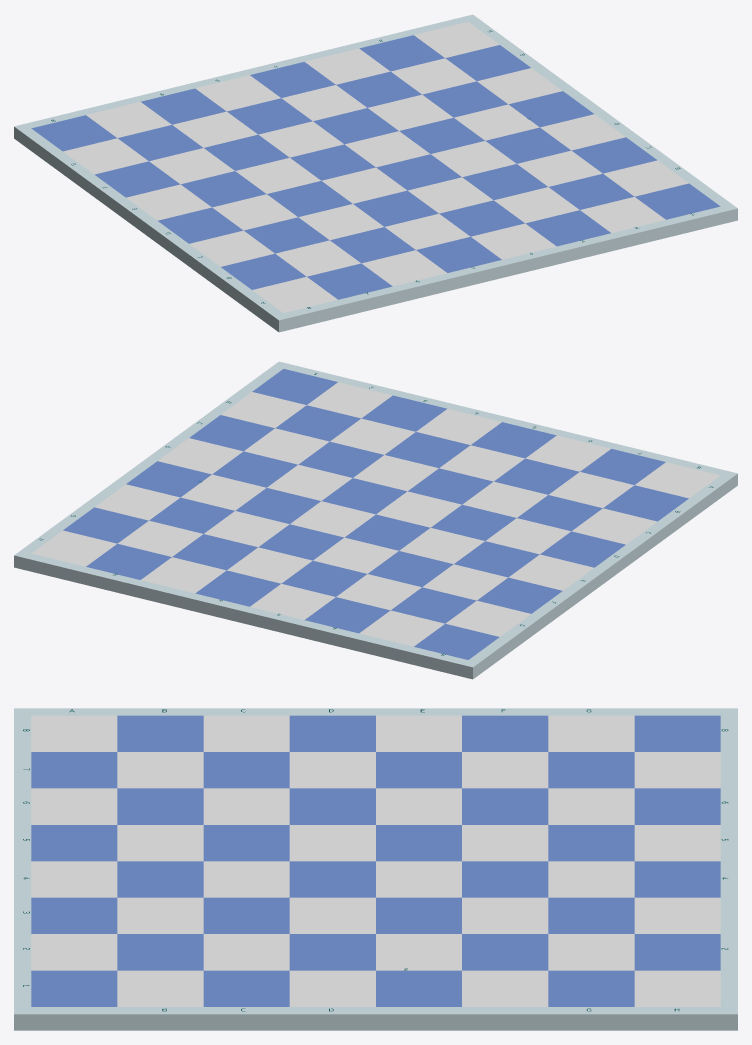
Rendered from chess_board.fbx.
3 renders of one model, top to bottom at view 1: azimuth 30°, elevation 25°; view 2: azimuth 150°, elevation 25°; view 3: azimuth 270°, elevation 25°, orthographic. The views are drawn at different scales.
Visible parts, largest first — view 1: Cube.001; view 2: Cube.001; view 3: Cube.001.
Boxes of the visible parts, x1,y1,x2,y2 form: Cube.001: (14, 14, 737, 332); Cube.001: (14, 361, 737, 679); Cube.001: (14, 708, 737, 1030).
Size of the model in its own units: 39.96 by 1.06 by 39.96.
